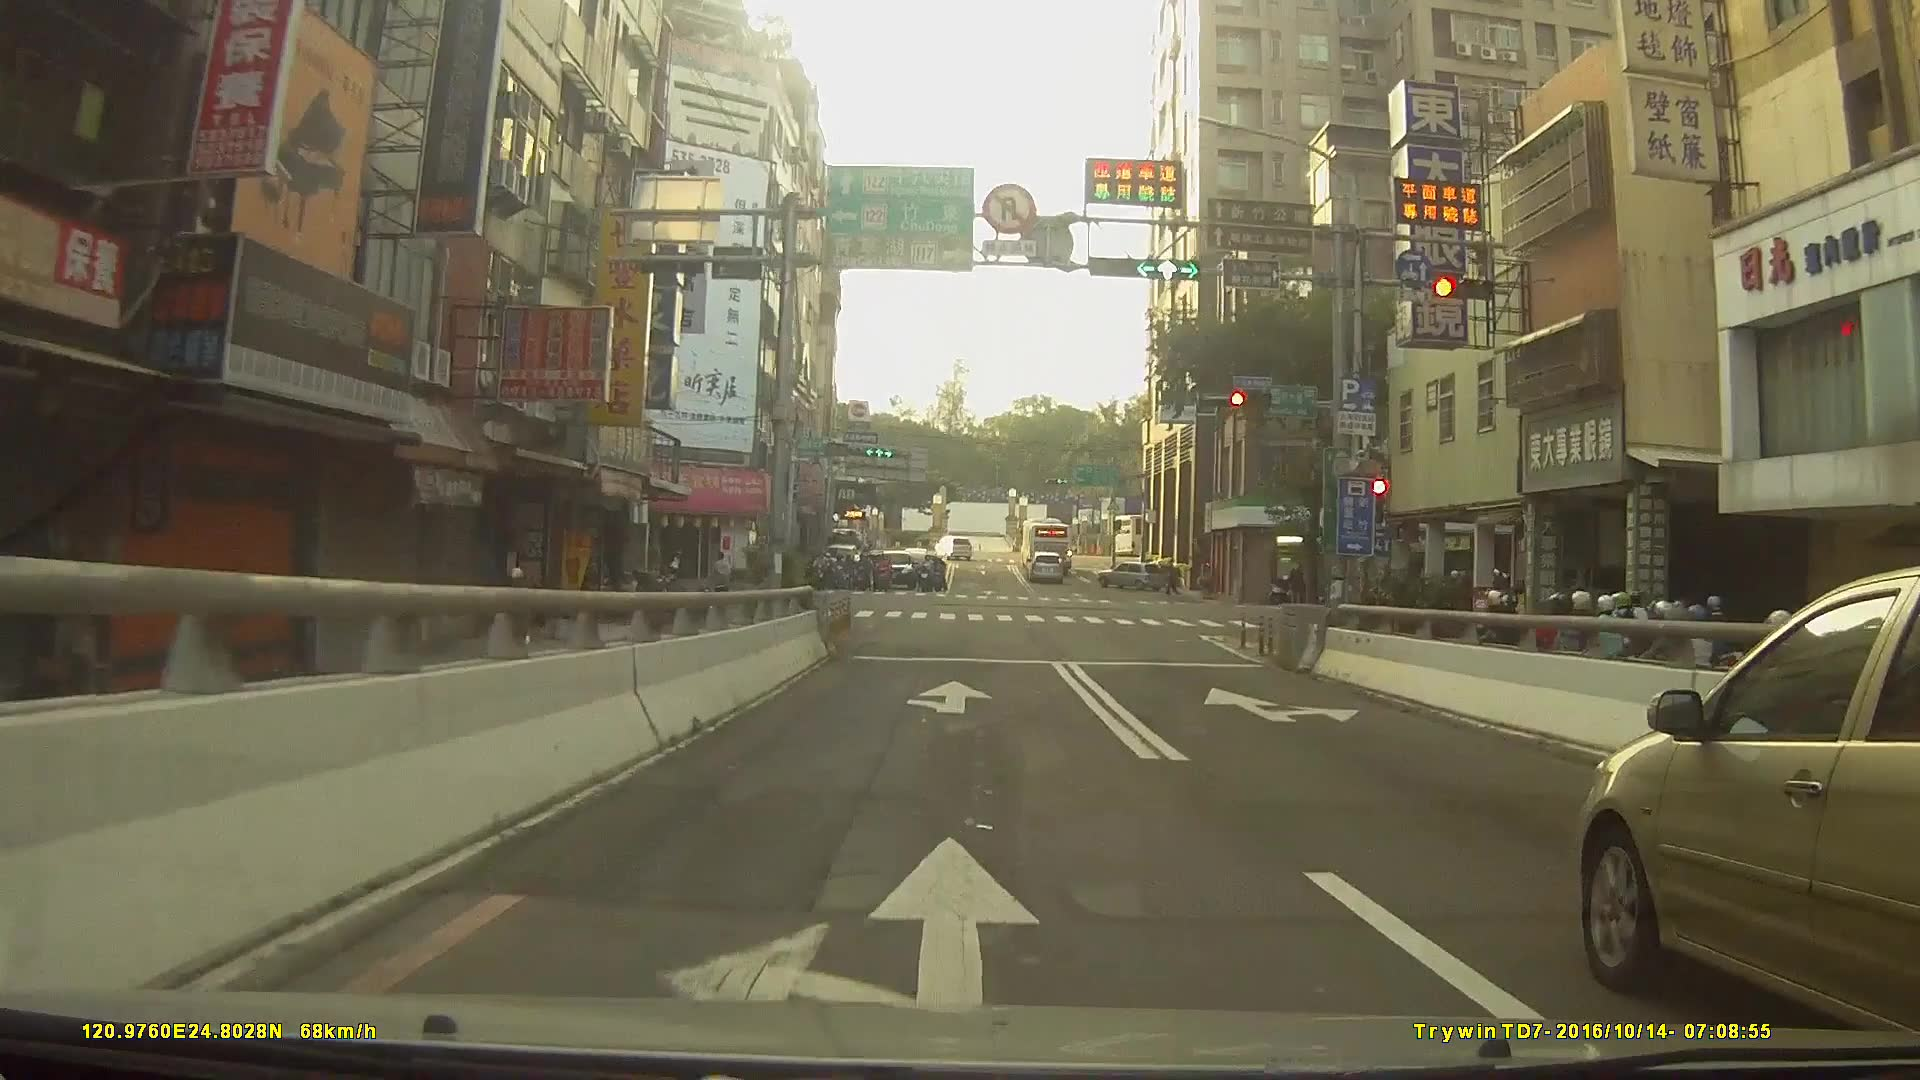pedestrian: (1285, 568, 1309, 609)
rider: (497, 569, 544, 680)
vehicle: (1578, 564, 1920, 1064), (1097, 558, 1172, 592), (1025, 520, 1073, 568), (874, 550, 917, 587), (1029, 549, 1067, 583), (930, 533, 972, 562)
